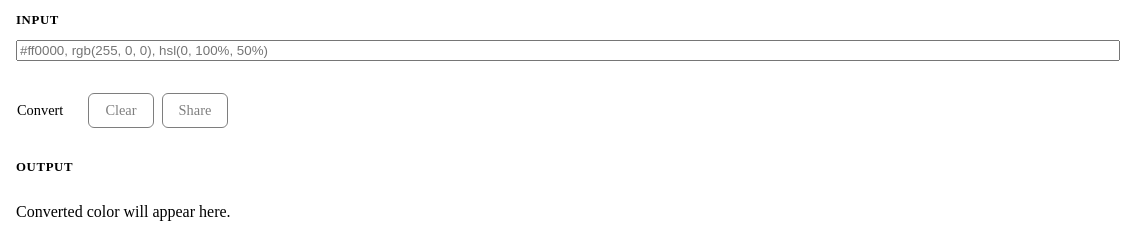
Test: ColorConverterTool › enables Share once state differs from defaults
Expected: the button "Share" is disabled, 162,93 -> 228,128
Type "#fff" into the field named "Color input". click: x=568, y=50
box: 16,40 -> 1120,61
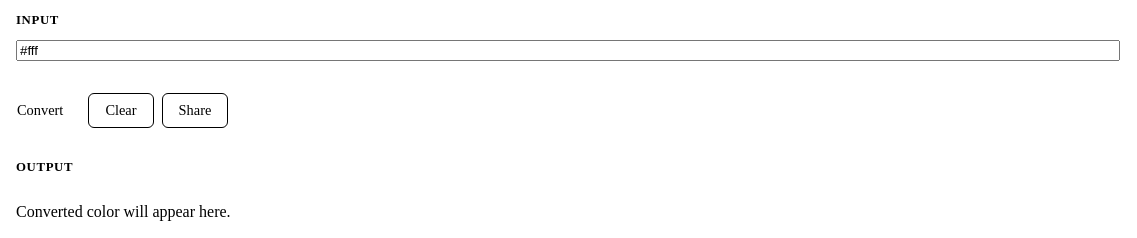
Expected: the button "Share" is enabled, 162,93 -> 228,128
